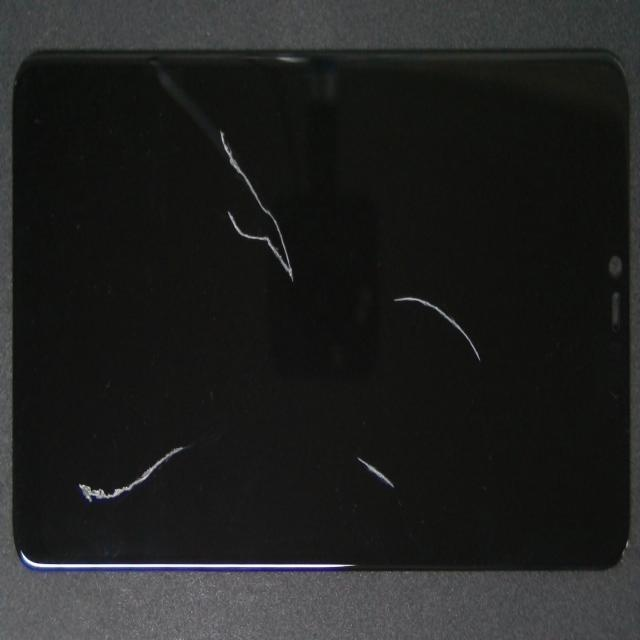scratch: (233, 241, 589, 640), (303, 200, 640, 464), (133, 197, 269, 640), (200, 231, 427, 326)
